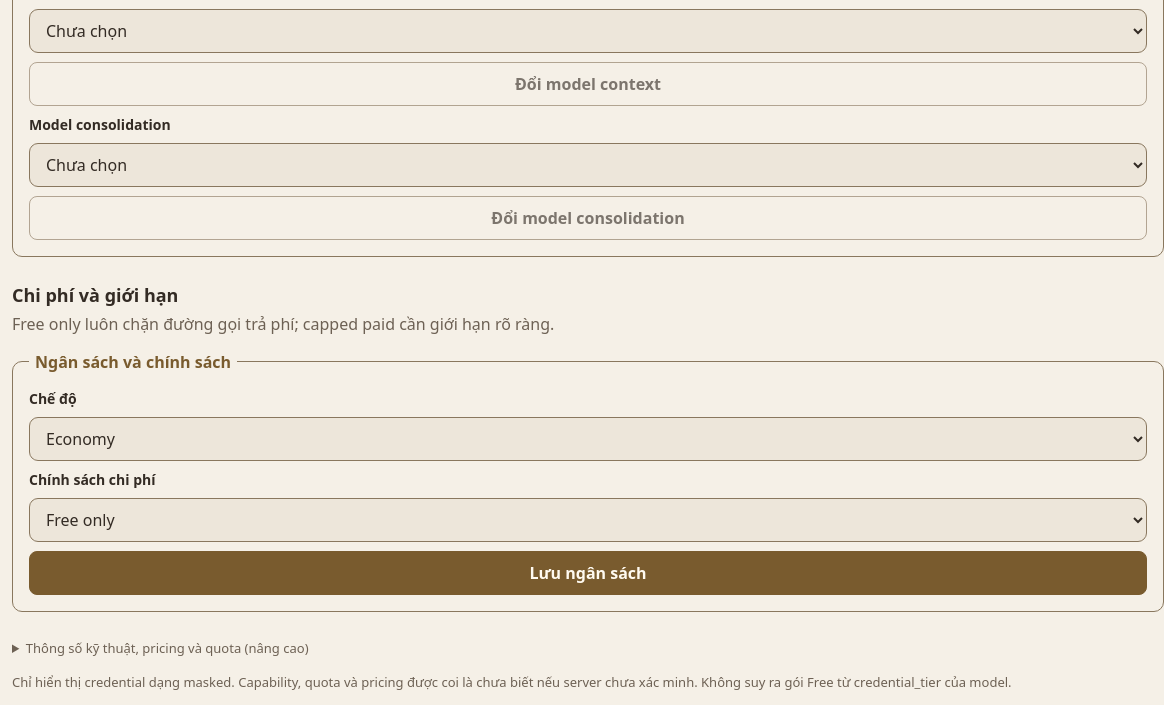
Test case: SettingsPanel › waits for the budget save acknowledgement before showing success
(page scrolled)
Click the button "Lưu ngân sách": {"x": 588, "y": 572} [29,550,1147,594]
(page scrolled)
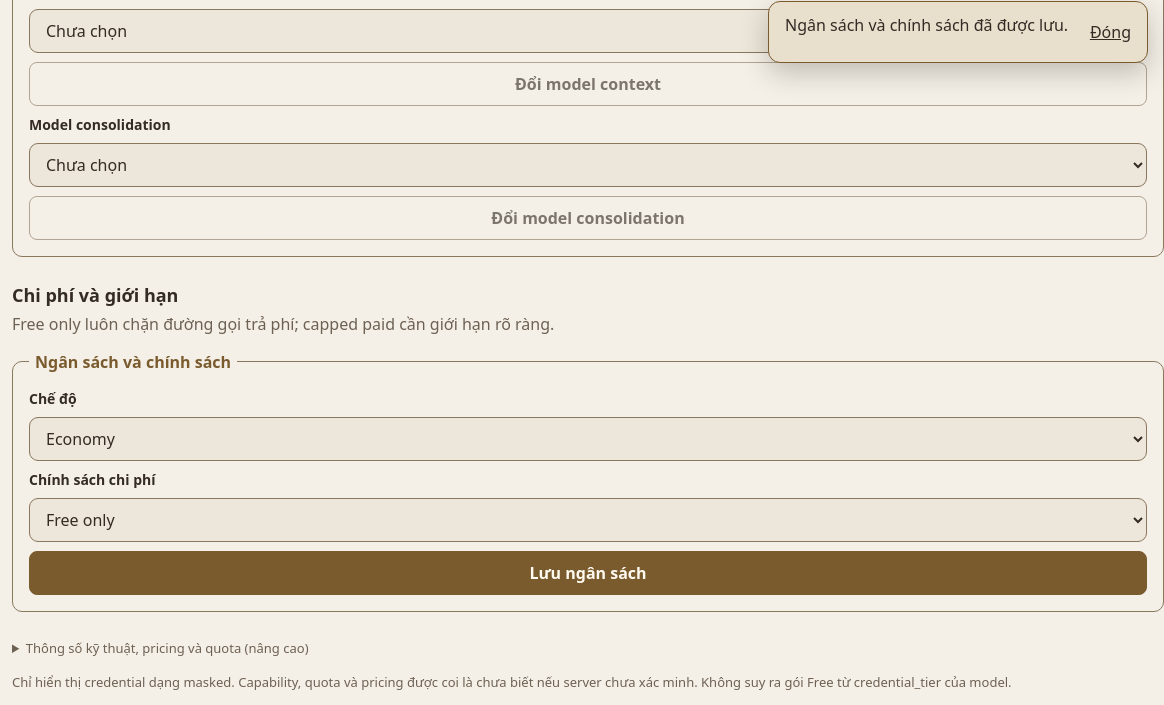
Now the message shows "Ngân sách", box [785,14,1068,36]
